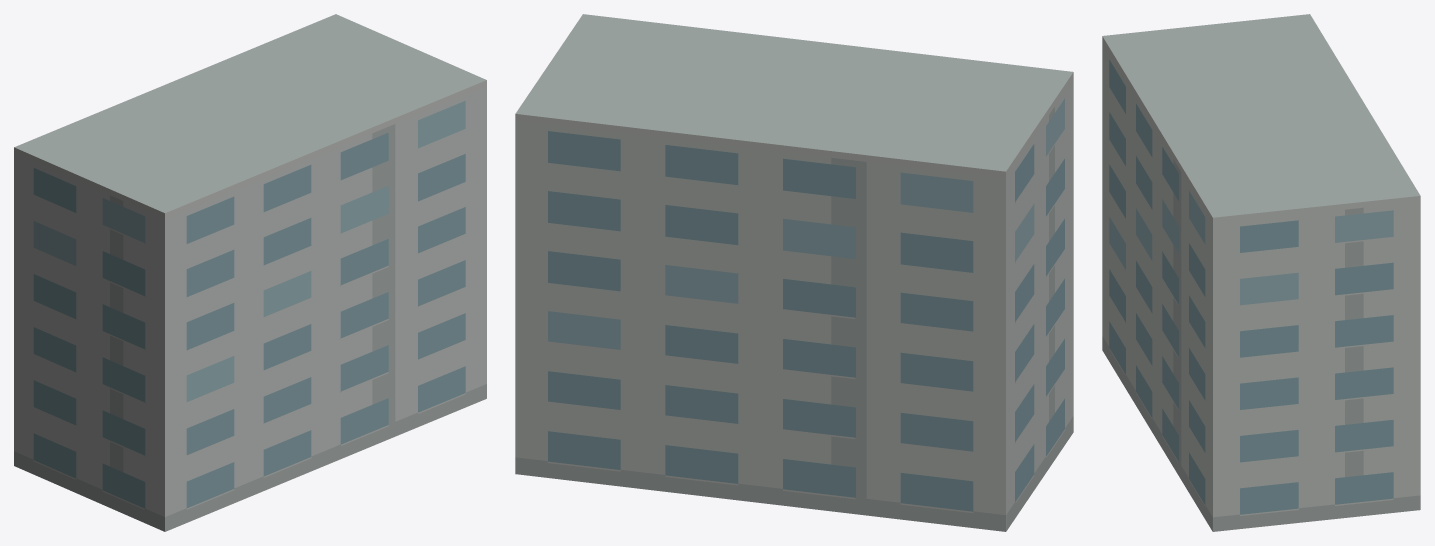
Rendered from survey-upis-32922820.glb.
3 views of the same model, side by side, from view 1: azimuth 30°, elevation 25°; view 2: azimuth 150°, elevation 25°; view 3: azimuth 270°, elevation 25° (orthographic). The views are drawn at different scales.
Visible parts, largest first — view 1: survey-upis-32922820.tmp; view 2: survey-upis-32922820.tmp; view 3: survey-upis-32922820.tmp.
Boxes of the visible parts, x1,y1,x2,y2 form: survey-upis-32922820.tmp: (14, 14, 486, 531); survey-upis-32922820.tmp: (515, 14, 1073, 531); survey-upis-32922820.tmp: (1102, 14, 1420, 531).
Bounding box in the file's own units: 18.23 × 13.1 × 12.04.
